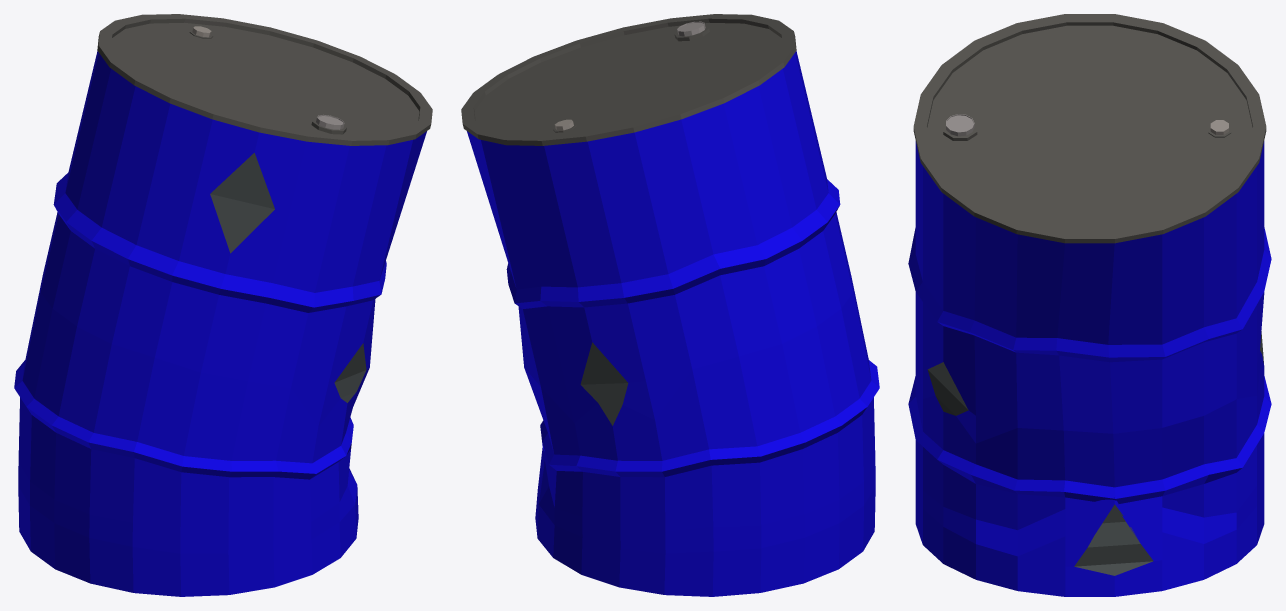
The model's file is SM_Barrel_Broken_02.gltf.
The picture shows the model from 3 angles, left to right: view 1: azimuth 30°, elevation 25°; view 2: azimuth 150°, elevation 25°; view 3: azimuth 270°, elevation 25°; orthographic projection.
Visible parts, largest first — view 1: SM_Barrel_Broken_02; view 2: SM_Barrel_Broken_02; view 3: SM_Barrel_Broken_02.
Part boxes in pixels (x1,y1,x2,y2): SM_Barrel_Broken_02: [14, 14, 432, 596]; SM_Barrel_Broken_02: [461, 14, 879, 596]; SM_Barrel_Broken_02: [908, 14, 1271, 596].
Size of the model in its own units: 0.7377 by 0.8965 by 0.6177.
